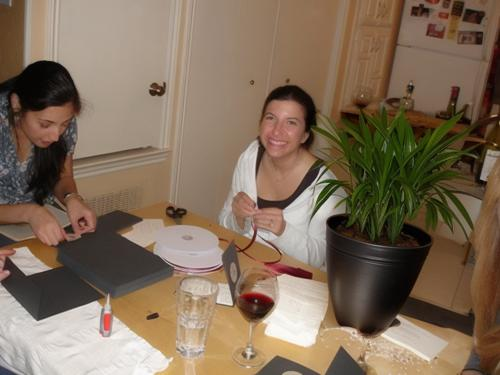bottle: (435, 84, 461, 159), (474, 116, 500, 186), (394, 80, 416, 137)
diningtable: (3, 201, 479, 375)
person: (219, 86, 350, 270), (1, 60, 100, 247)
person/hand: (28, 204, 70, 246), (67, 194, 97, 234), (253, 208, 285, 238), (232, 192, 256, 220)
person/head: (11, 59, 83, 150), (259, 84, 316, 160)
pottedplant: (307, 109, 474, 327)
